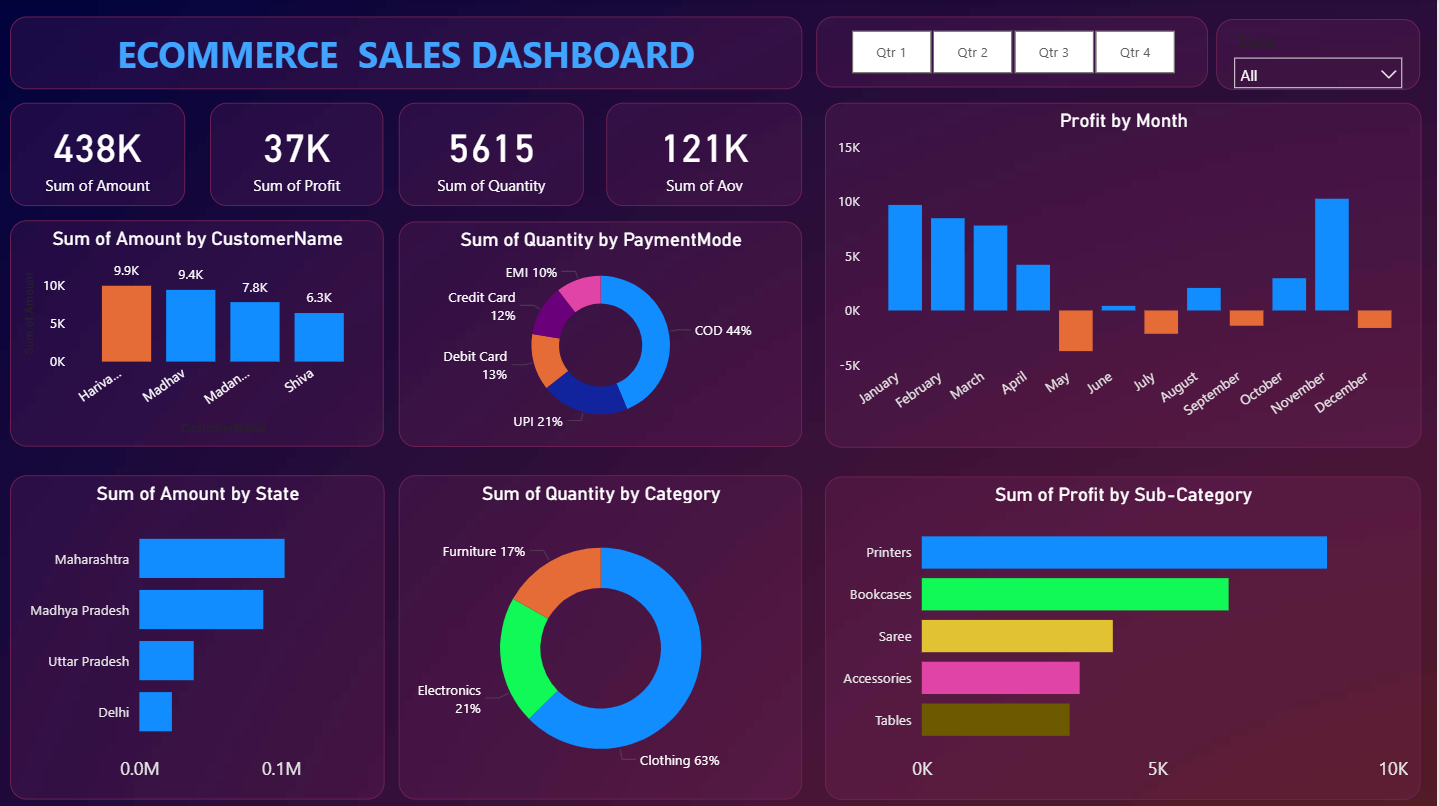

The dashboard page shown, as its layout file describes it:
{"tool":"powerbi","page":{"name":"Page 1","canvas":[1280,720],"ordinal":0},"visuals":[{"type":"clusteredColumnChart","title":" Profit by Month","fields":{"Y":["Sum(Details.Profit)"],"Category":["Orders.Order Date.Variation.Date Hierarchy.Month"]},"box":[734.4,92.3,530.9,307.3],"z":0},{"type":"barChart","fields":{"Category":["Details.Sub-Category"],"Y":["Sum(Details.Profit)"]},"box":[734.8,424.7,530.3,287.6],"z":1000},{"type":"donutChart","fields":{"Category":["Details.Category"],"Y":["Sum(Details.Quantity)"]},"box":[354.9,424.2,359.2,288.6],"z":2000},{"type":"donutChart","fields":{"Y":["Sum(Details.Quantity)"],"Category":["Details.PaymentMode"]},"box":[354.9,197.7,359.2,200.5],"z":3000},{"type":"card","fields":{"Values":["Sum(Details.Amount)"]},"box":[8.4,92.9,155.6,91.7],"z":4000},{"type":"card","fields":{"Values":["Sum(Details.Profit)"]},"box":[187.6,92.3,154.4,92.3],"z":5000},{"type":"card","fields":{"Values":["Sum(Details.Quantity)"]},"box":[354.9,92.3,164.5,92.3],"z":6000},{"type":"card","fields":{"Values":["Sum(Details.Aov)"]},"box":[539.6,92.3,174.6,92.3],"z":7000},{"type":"clusteredBarChart","fields":{"Category":["Orders.State"],"Y":["Sum(Details.Amount)"]},"box":[8.7,424.2,333.3,288.6],"z":8000},{"type":"clusteredColumnChart","fields":{"Category":["Orders.CustomerName"],"Y":["Sum(Details.Amount)"]},"box":[8.9,197,332.8,201.5],"z":9000},{"type":"textbox","box":[8.4,15.7,705.8,65.1],"z":10000},{"type":"slicer","fields":{"Values":["Orders.Order Date.Variation.Date Hierarchy.Quarter"]},"box":[727.2,15.9,349.1,63.5],"z":11000},{"type":"slicer","fields":{"Values":["Orders.State"]},"box":[1083.5,17.3,181.8,63.5],"z":12000}]}

Visuals, with their boxes in screenshot pixels (x1, y1, x2, y2), scaled from the page's 1280x720 canvas onto the 1439x806 screenshot:
" Profit by Month" clusteredColumnChart: (826,103,1422,447)
barChart - Details.Sub-Category x Sum(Details.Profit): (826,475,1422,797)
donutChart - Details.Category x Sum(Details.Quantity): (399,475,803,798)
donutChart - Sum(Details.Quantity) x Details.PaymentMode: (399,221,803,446)
card - Sum(Details.Amount): (9,104,184,207)
card - Sum(Details.Profit): (211,103,384,207)
card - Sum(Details.Quantity): (399,103,584,207)
card - Sum(Details.Aov): (607,103,803,207)
clusteredBarChart - Orders.State x Sum(Details.Amount): (10,475,384,798)
clusteredColumnChart - Orders.CustomerName x Sum(Details.Amount): (10,221,384,446)
textbox: (9,18,803,90)
slicer - Orders.Order Date.Variation.Date Hierarchy.Quarter: (818,18,1210,89)
slicer - Orders.State: (1218,19,1422,90)
